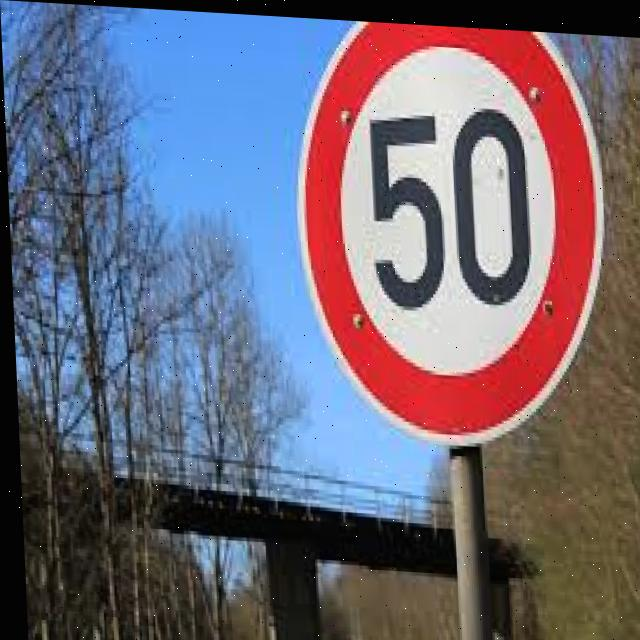Speed limit 50: (287, 14, 614, 452)
